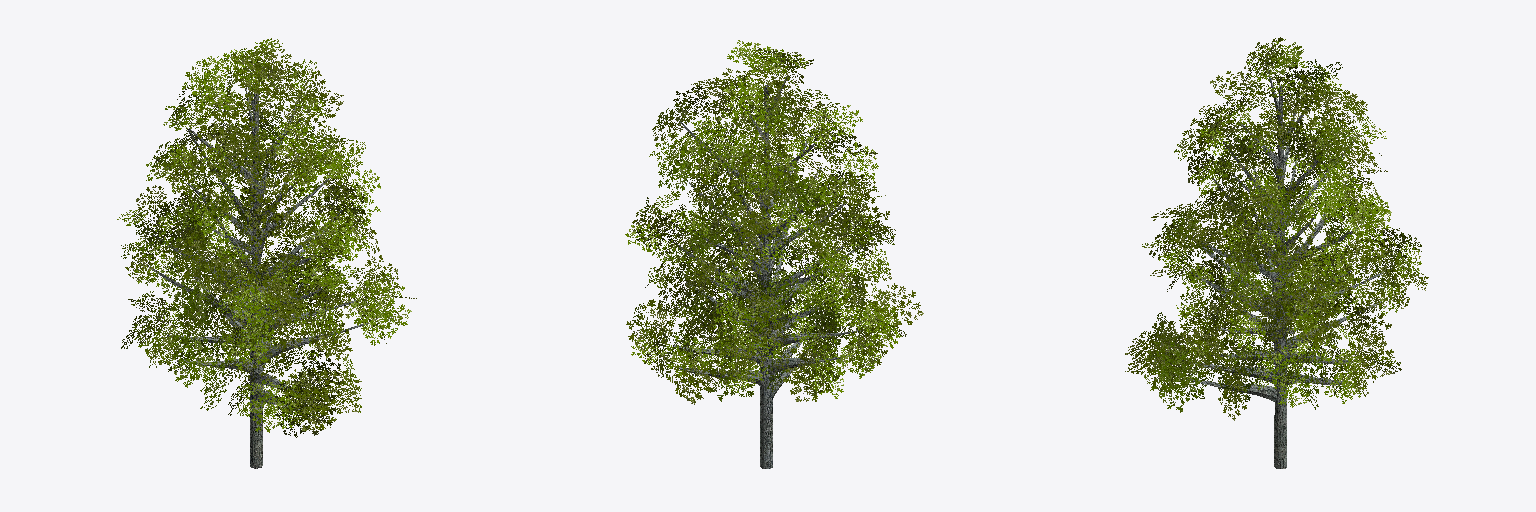
3 views of the same model, side by side, from view 1: azimuth 30°, elevation 25°; view 2: azimuth 150°, elevation 25°; view 3: azimuth 270°, elevation 25° (orthographic).
Visible parts, largest first — view 1: Foliage__leafcard, Bark; view 2: Foliage__leafcard, Bark; view 3: Foliage__leafcard, Bark.
Boxes of the visible parts, <box> form: Foliage__leafcard: <box>117,38,416,437</box>; Bark: <box>149,87,368,468</box>; Foliage__leafcard: <box>625,40,923,404</box>; Bark: <box>672,75,867,468</box>; Foliage__leafcard: <box>1125,37,1428,420</box>; Bark: <box>1183,70,1382,468</box>.
Bounding box in the file's own units: 8.85 × 13 × 8.84.
2 materials, 2 textured.